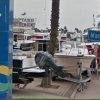Boat: (50, 44, 94, 80)
